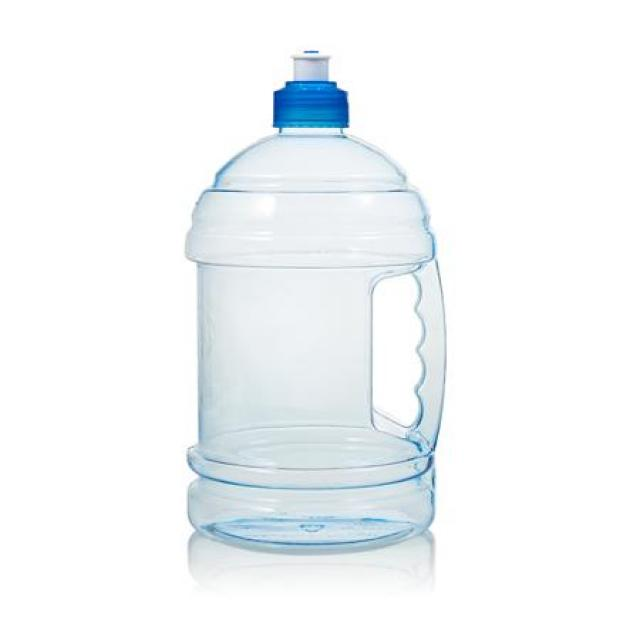plastic_bottle: (186, 54, 446, 543)
